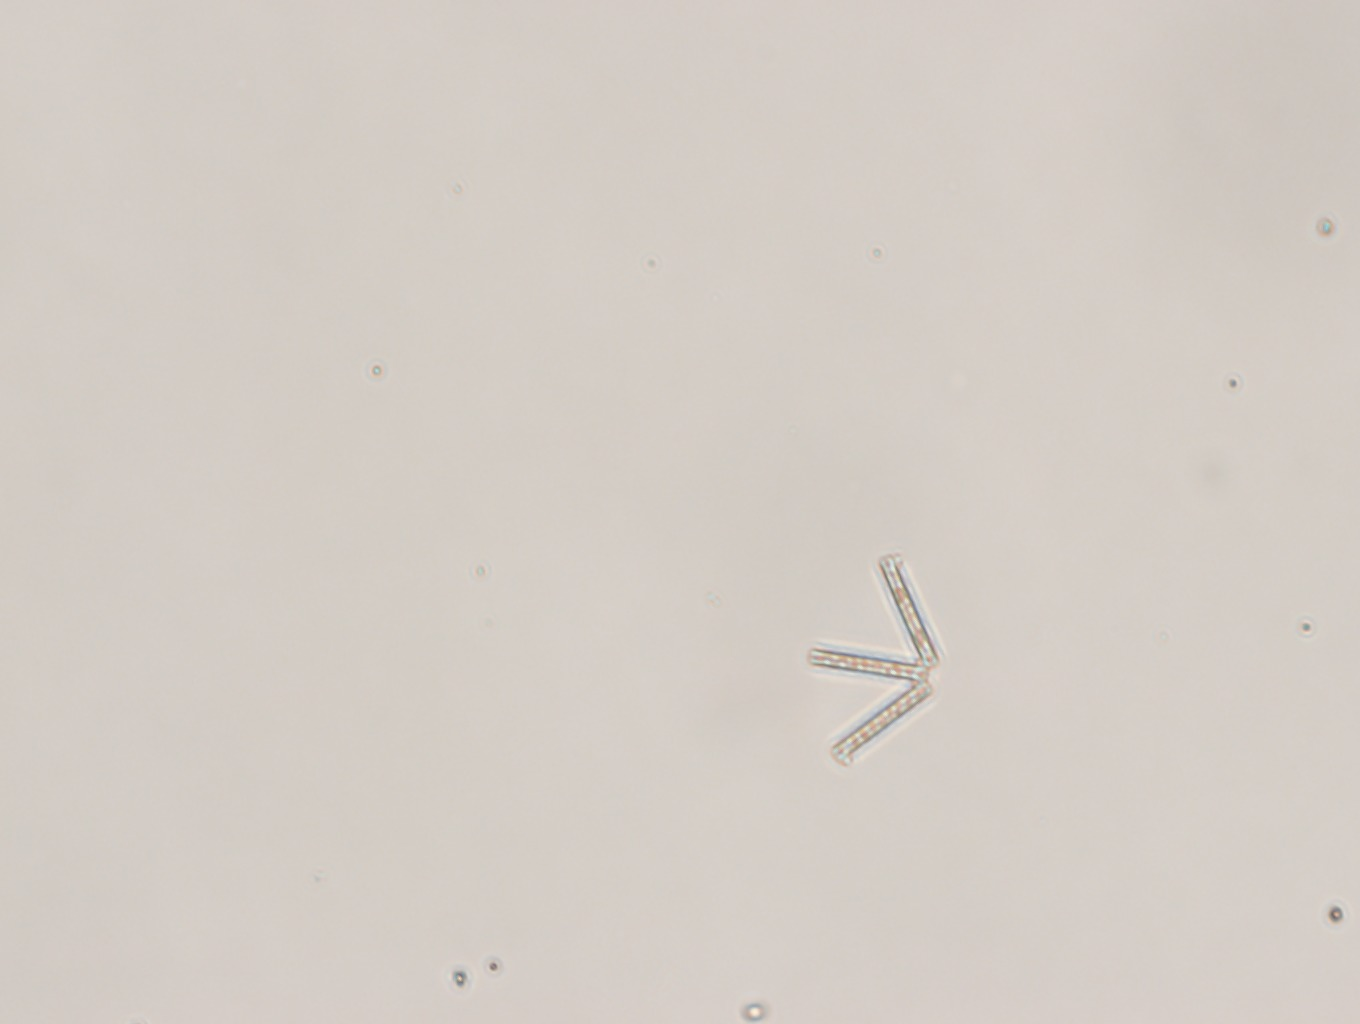thalassionema nitzschioides: (808, 553, 940, 766)
